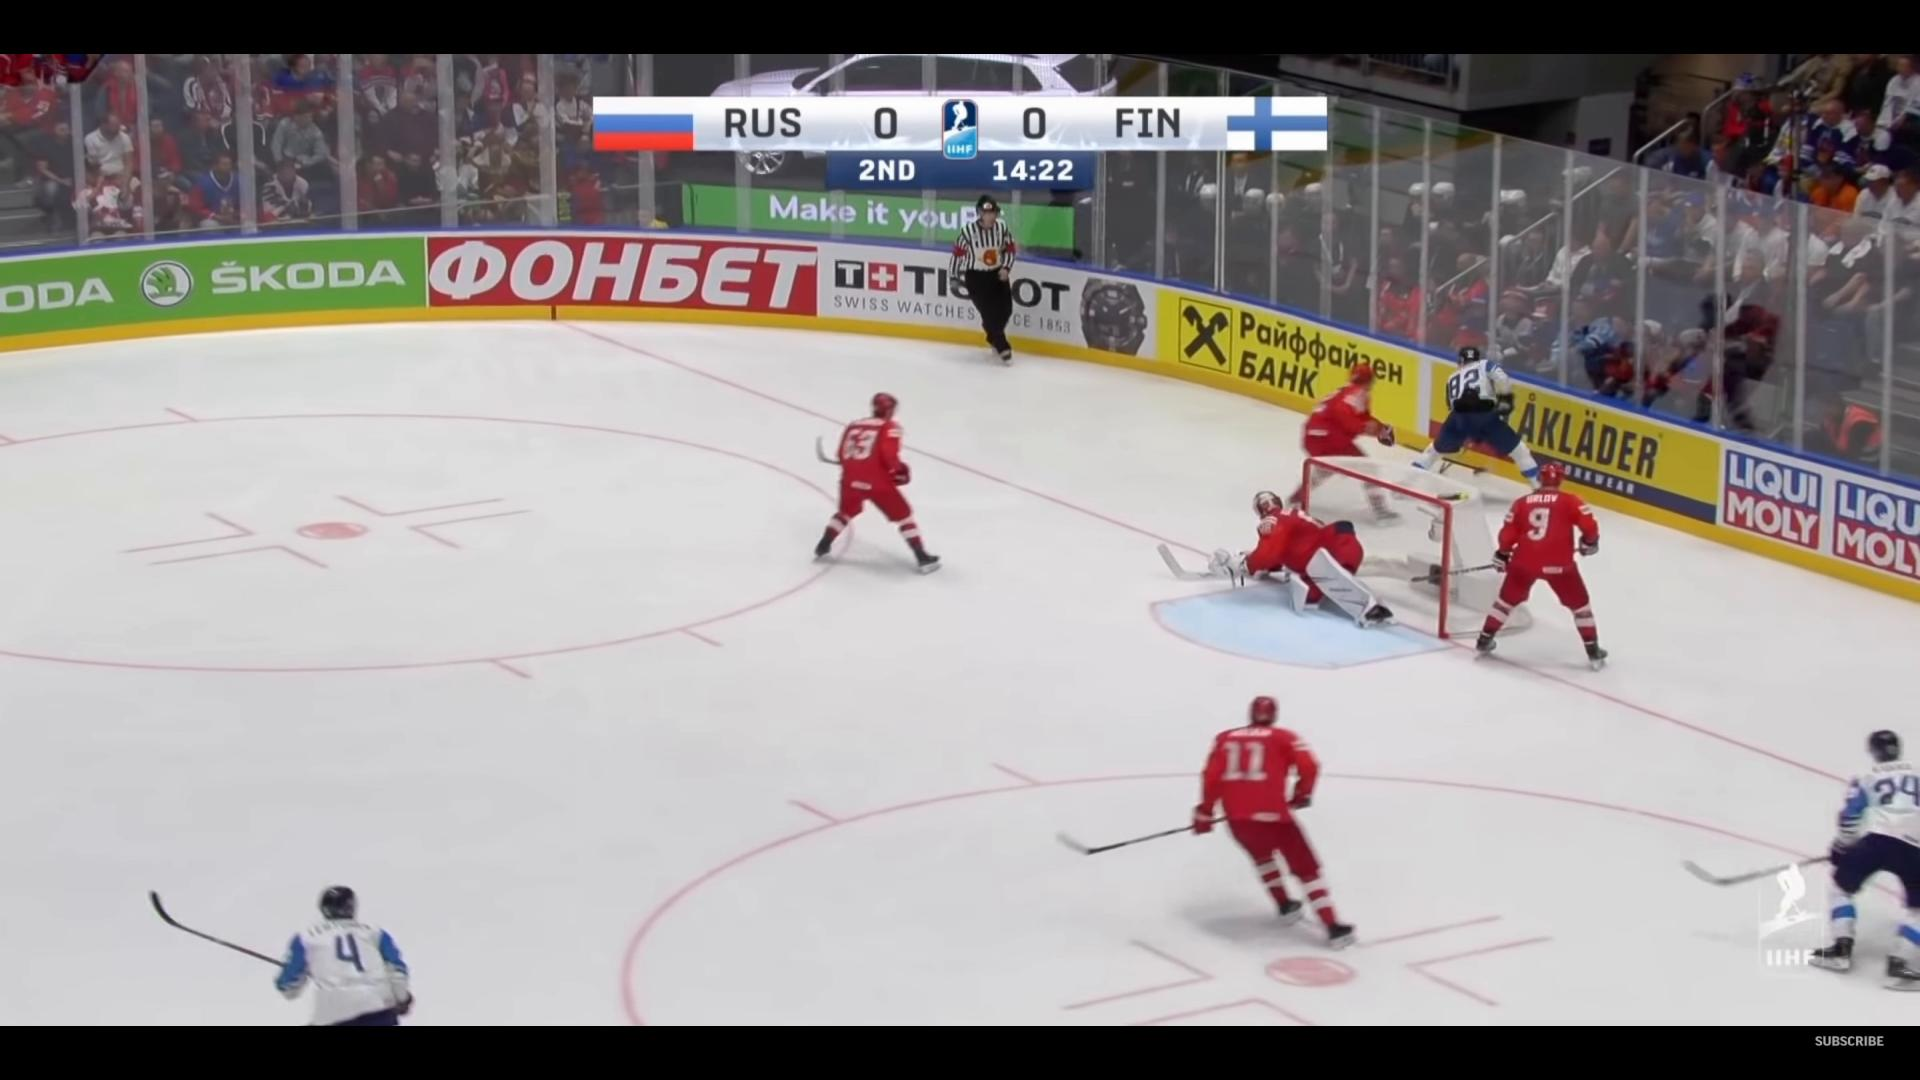puck: (1472, 468, 1481, 476)
